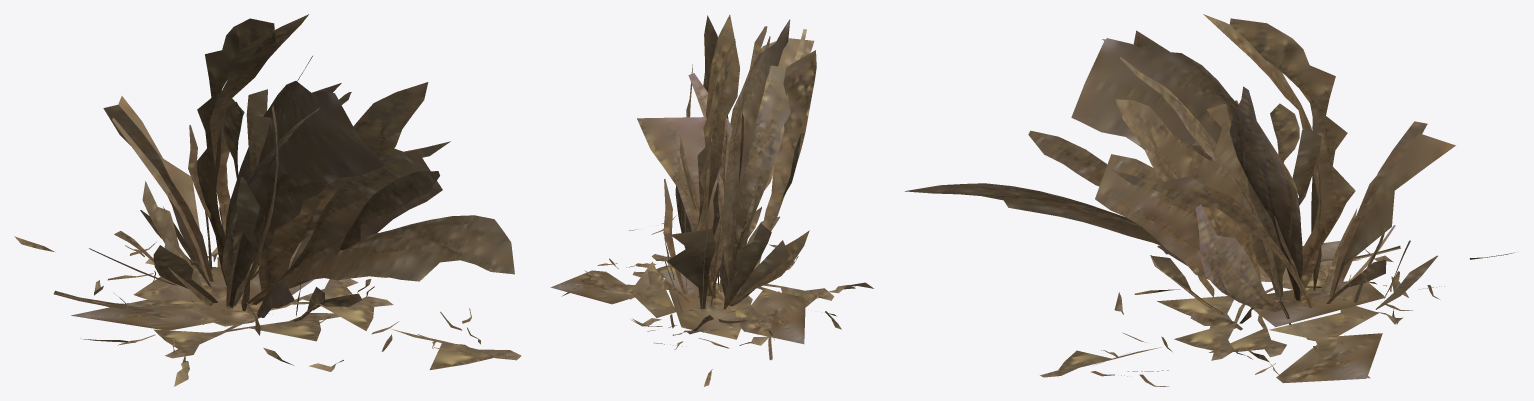
Rendered from SM_Weed_4.fbx.
The picture shows the model from 3 angles, left to right: view 1: azimuth 30°, elevation 25°; view 2: azimuth 150°, elevation 25°; view 3: azimuth 270°, elevation 25°; orthographic projection. The views are drawn at different scales.
Parts seen in each view (by area): view 1: SM_Weed_4_LOD0; view 2: SM_Weed_4_LOD0; view 3: SM_Weed_4_LOD0.
Part boxes in pixels (x1,y1,x2,y2): SM_Weed_4_LOD0: (14, 14, 521, 386); SM_Weed_4_LOD0: (550, 14, 873, 386); SM_Weed_4_LOD0: (905, 14, 1515, 386).
Size of the model in its own units: 57.18 by 96.46 by 53.77.
1 material, 1 textured.
